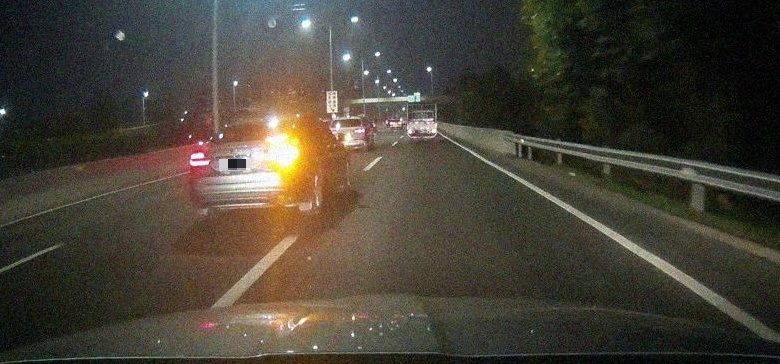L_light: (189, 152, 211, 167)
R_light: (270, 148, 298, 164)
T_light: (243, 121, 259, 126)
night-right: (187, 113, 312, 218)
plate_1: (219, 159, 250, 170)
